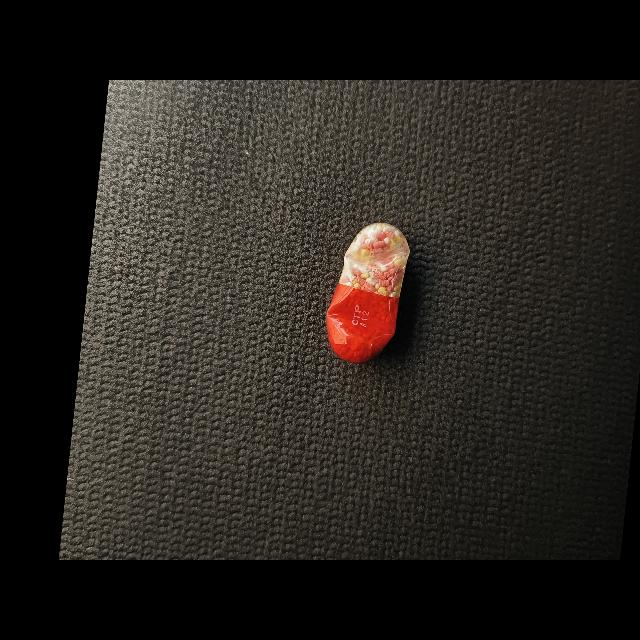Defective Capsule: (326, 223, 410, 363)
